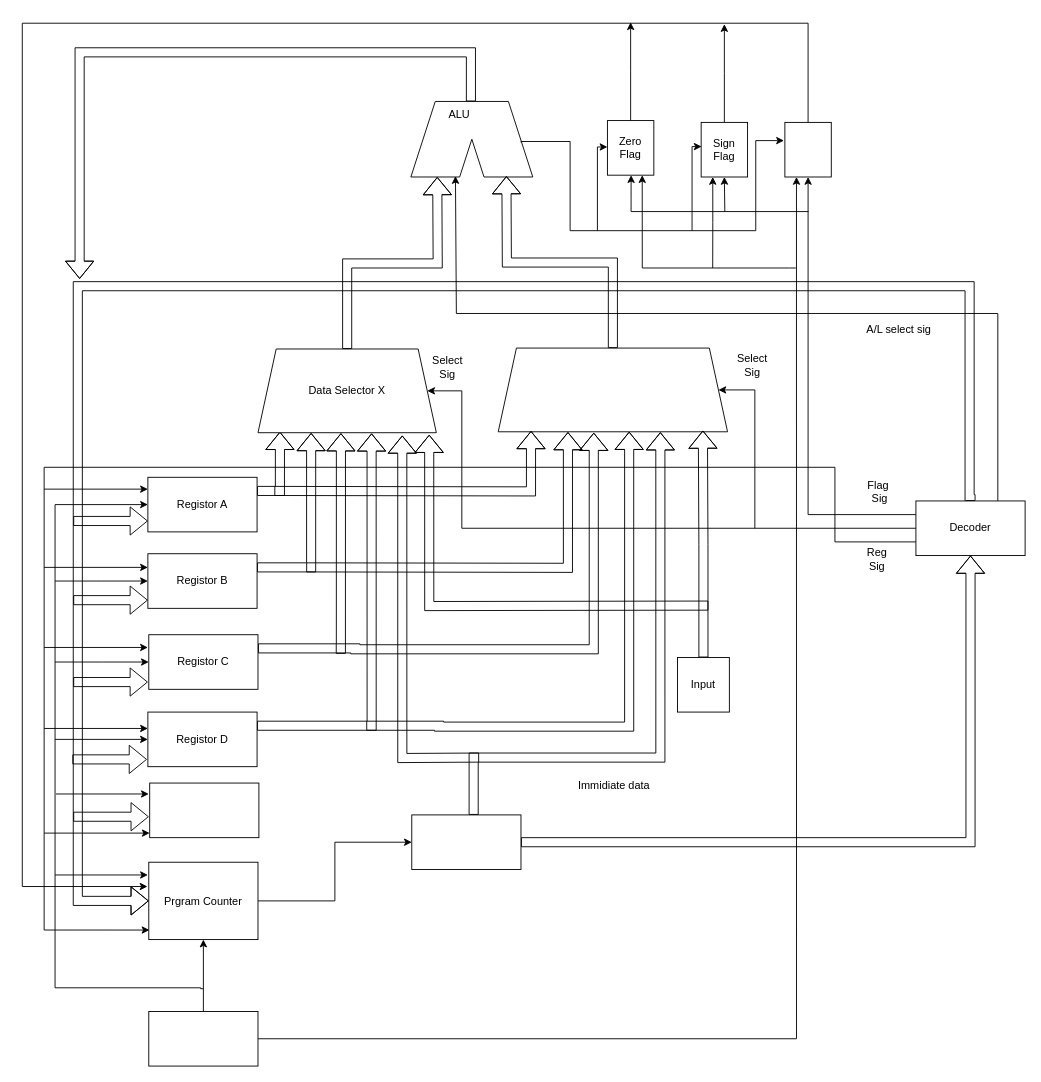
This 1041x1082 diagram has some shape labels left out. Each missing label, with the box of its shape:
Carry Flag: (784, 121, 831, 177)
CLOCK: (148, 1011, 258, 1066)
Data Selector Y: (497, 347, 728, 432)
Output: (149, 782, 259, 838)
ROM: (411, 814, 521, 870)
